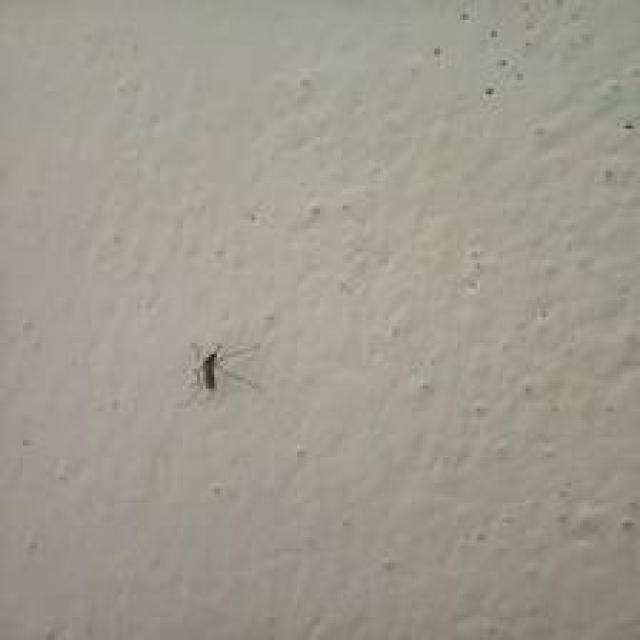Culex: (189, 340, 260, 394)
